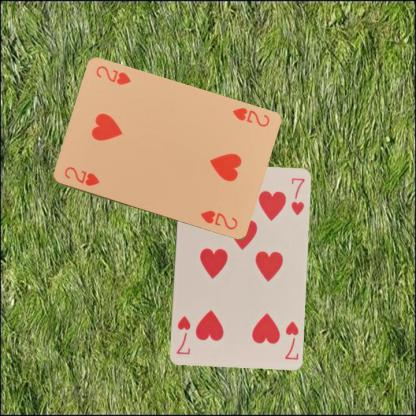2h: (61, 164, 101, 188), (230, 105, 270, 128)
7h: (282, 318, 300, 360)
